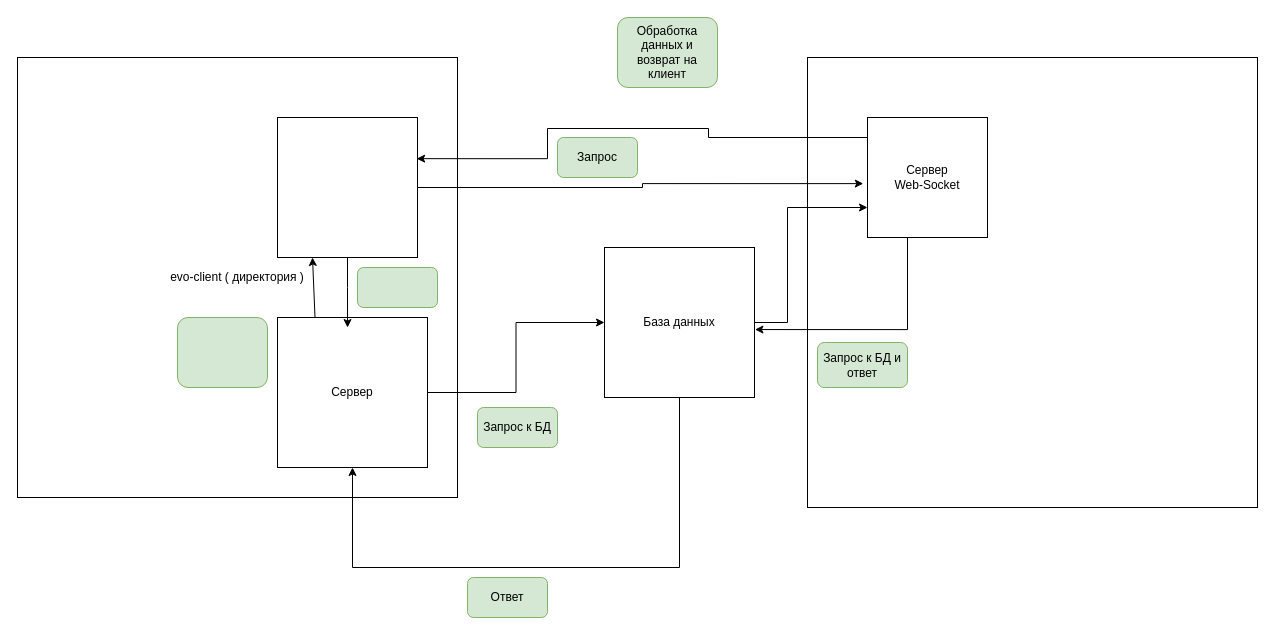
This 1275x635 diagram has some shape labels left out. The shapes that lost their labels are listed below. From the top down, each one's box as (x1, y1, x2, y2) in pixels, then its label:
(276, 116, 418, 258): Client ( то что видит пользователь )
(356, 266, 438, 308): Отправляем форму
(806, 56, 1258, 508): evo-server ( директория )
(176, 316, 268, 388): Обработка ответа и отдаём на клиент
